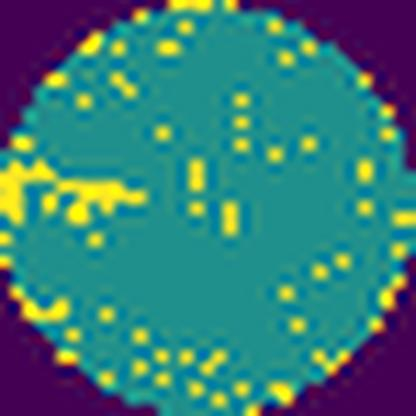Loc: (0, 155, 151, 229)
